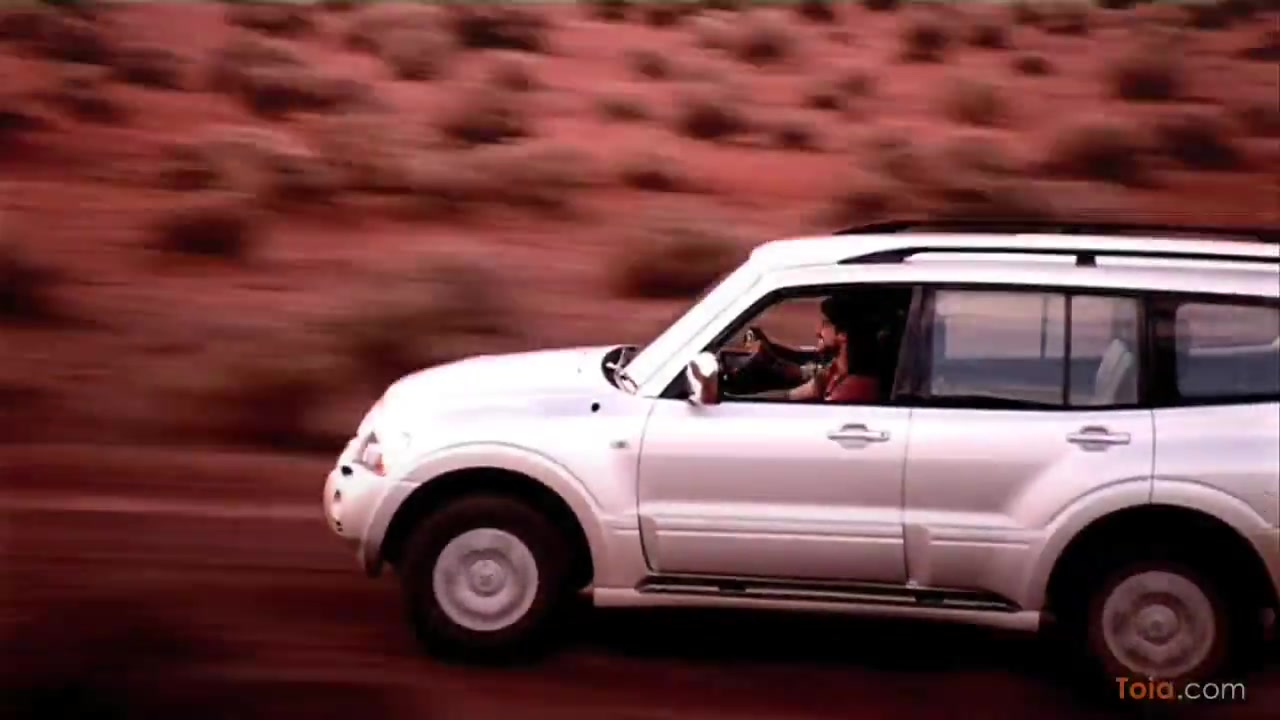car: (322, 205, 1280, 693)
